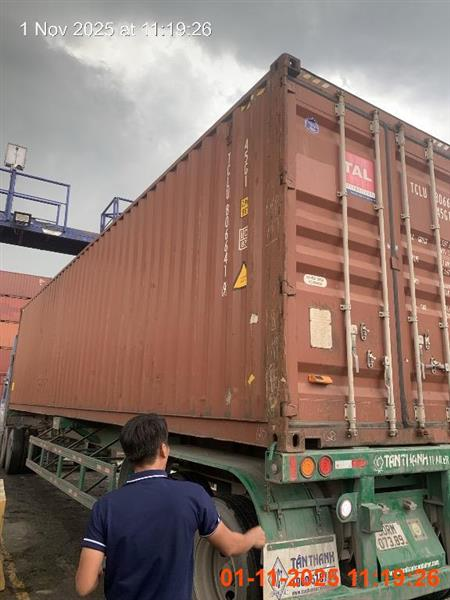broken: (1, 53, 449, 599), (74, 413, 267, 599)
